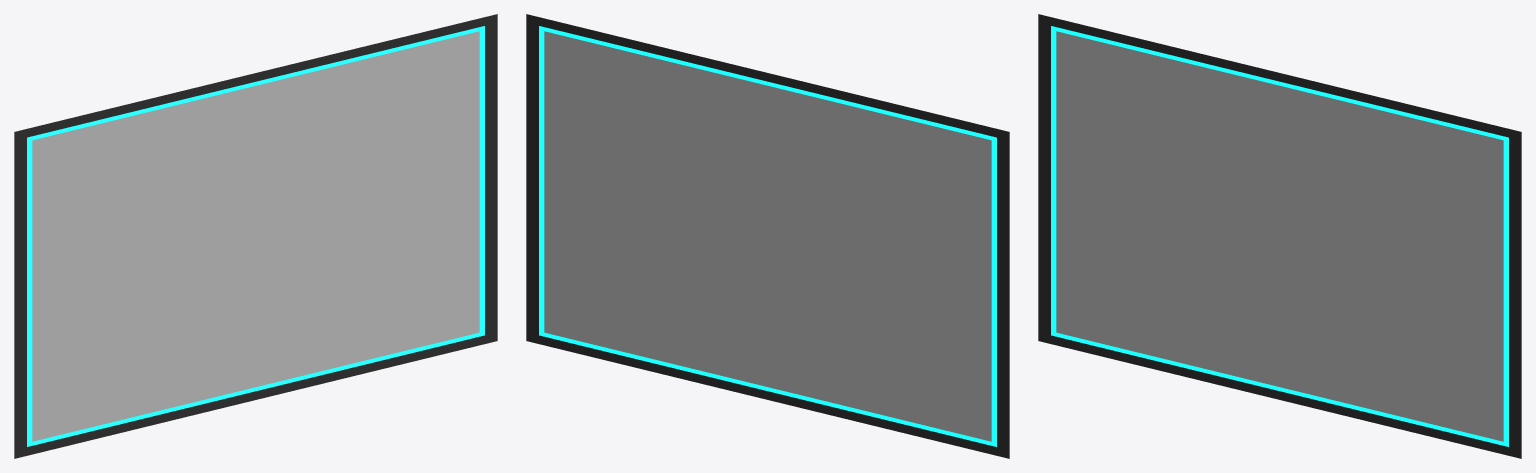
The model's file is BoardOnly.fbx.
3 renders of one model, left to right at view 1: azimuth 30°, elevation 25°; view 2: azimuth 150°, elevation 25°; view 3: azimuth 330°, elevation 25°, orthographic.
Visible parts, largest first — view 1: BoardOnly; view 2: BoardOnly; view 3: BoardOnly.
Part boxes in pixels (x1=…): BoardOnly: x1=14, y1=14, x2=497, y2=458; BoardOnly: x1=526, y1=14, x2=1009, y2=458; BoardOnly: x1=1038, y1=14, x2=1521, y2=458.
Bounding box in the file's own units: 309 × 200 × 8.74e-06.
